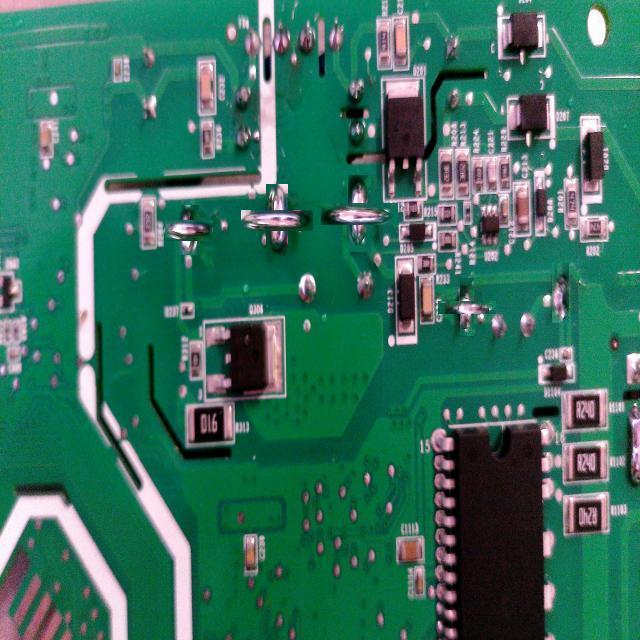Short_circuit: (334, 188, 384, 238), (253, 196, 300, 244), (449, 289, 485, 325), (171, 213, 206, 248), (552, 263, 569, 323)
